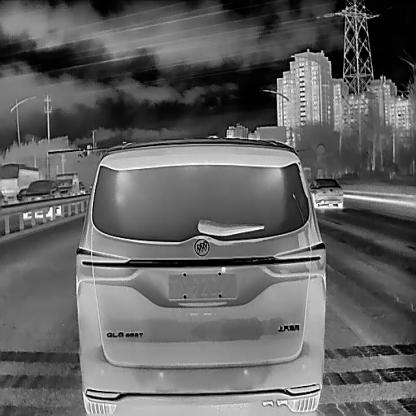bus: (0, 162, 40, 200)
car: (74, 132, 326, 414), (17, 180, 64, 220), (308, 176, 345, 209)
truck: (54, 171, 77, 196)
